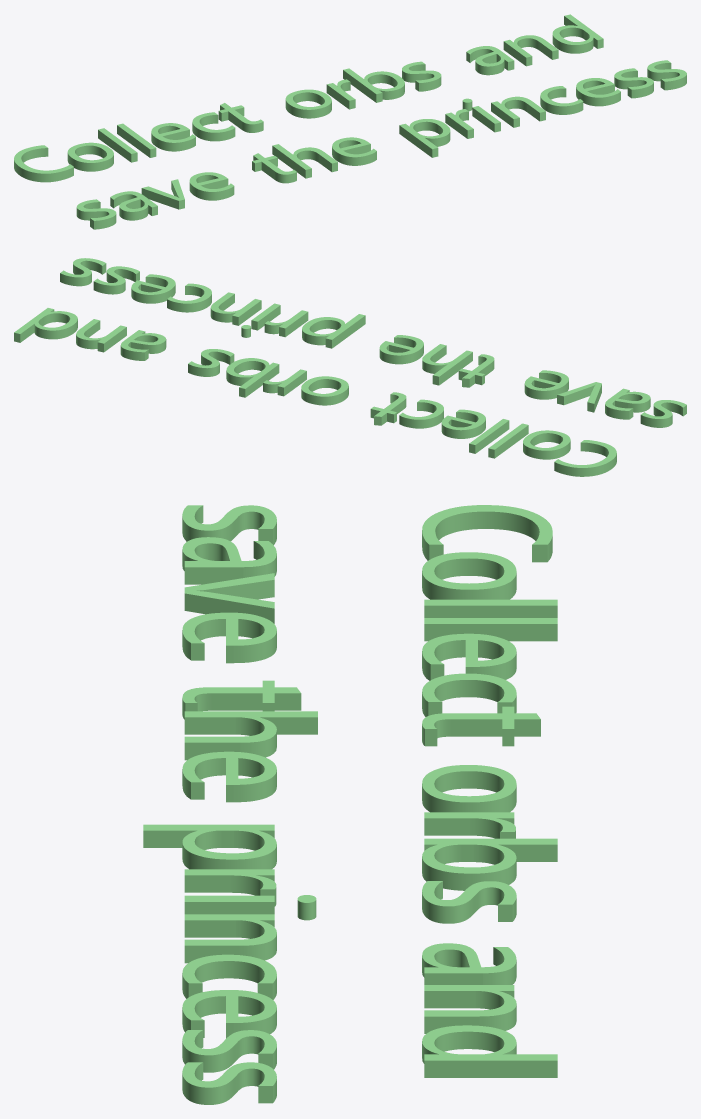
File: Objective.obj
3 views of the same model, one above another, from view 1: azimuth 30°, elevation 25°; view 2: azimuth 150°, elevation 25°; view 3: azimuth 270°, elevation 25° (orthographic). The views are drawn at different scales.
Parts seen in each view (by area): view 1: Objective; view 2: Objective; view 3: Objective.
Part boxes in pixels (box(x1,y1,x2,y2)): Objective: box(14, 14, 686, 229); Objective: box(14, 258, 686, 476); Objective: box(143, 505, 557, 1104).
Size of the model in its own units: 0.5752 by 0.008 by 0.173.
